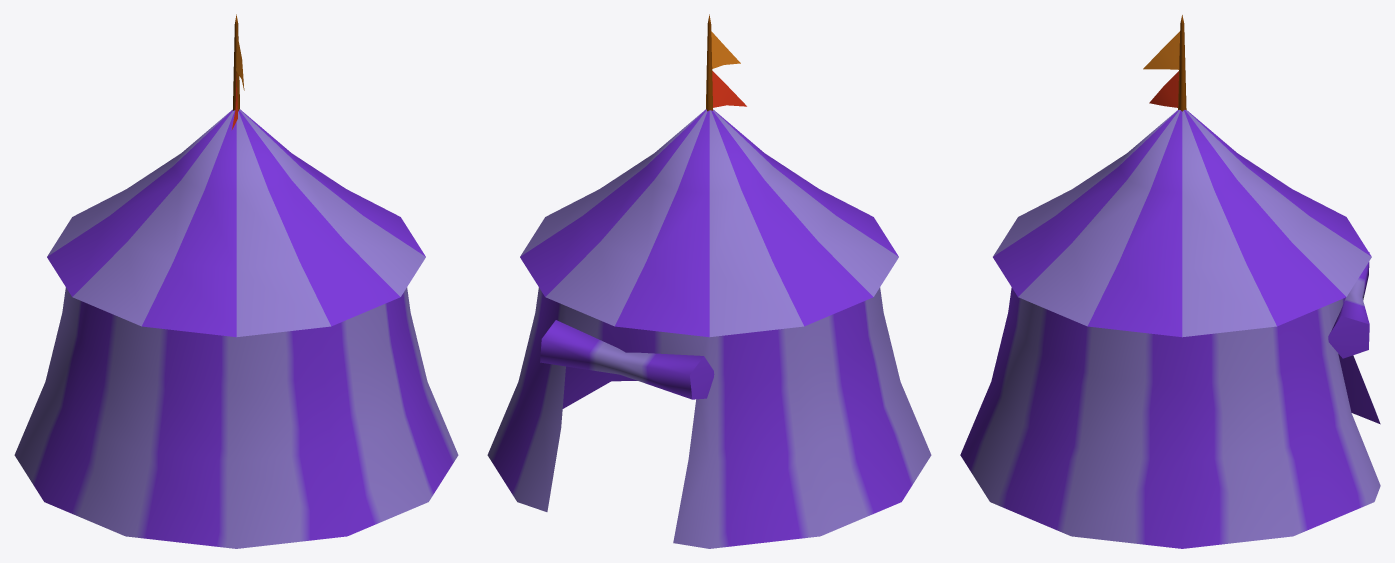
File: HOS1010008.fbx
3 renders of one model, left to right at view 1: azimuth 30°, elevation 25°; view 2: azimuth 150°, elevation 25°; view 3: azimuth 270°, elevation 25°, orthographic.
Parts seen in each view (by area): view 1: smHOS1010008; view 2: smHOS1010008; view 3: smHOS1010008.
Part boxes in pixels (bbox=[...]): smHOS1010008: bbox=[14, 14, 458, 548]; smHOS1010008: bbox=[487, 14, 931, 548]; smHOS1010008: bbox=[960, 15, 1380, 548].
Size of what is drawn, in the model's own units: 597 by 654 by 565.
1 material, 1 textured.
